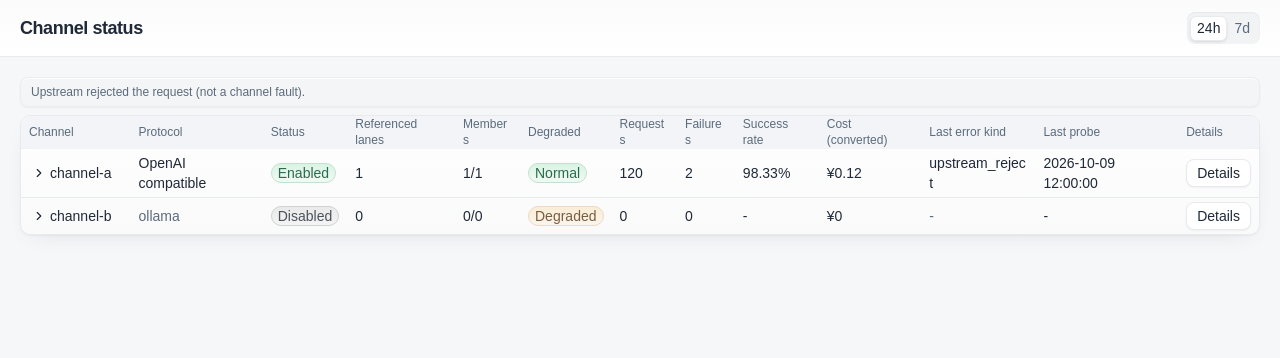
Test: 渠道状态页 › expands a row inline to show per-model success rate and output speed
The width and height of the screenshot is (1280, 358).
expect the text "channel-a" is shown: met, box [50,163,112,183]
expect the text "Model status" is not shown: met
What coordinates should you click on to do the following:
click the button "channel-a"
I would click on:
 (72, 173)
Its box is [21,159,122,187].
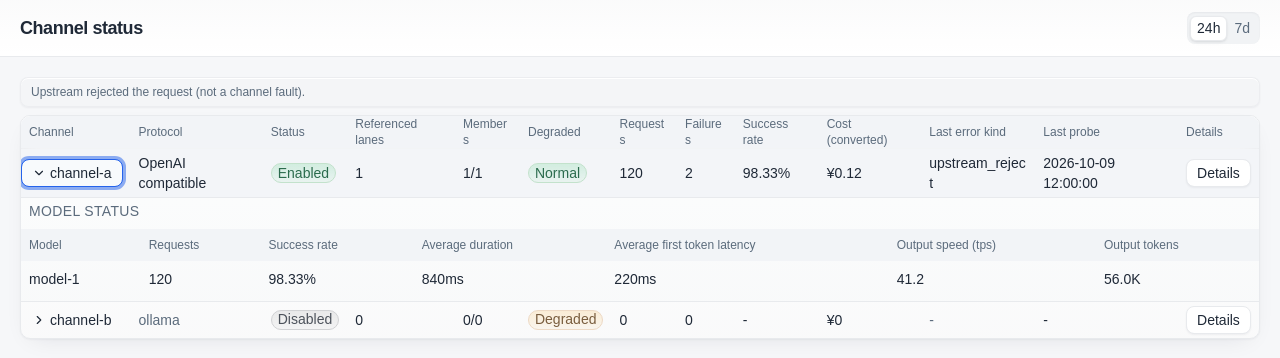
expect the heading "Model status" is shown: met, box [29,203,140,219]
expect the column heading "Output speed (tps)" is shown: met, box [889,229,1096,261]
expect the text "41.2" is shown: met, box [889,261,1096,297]
